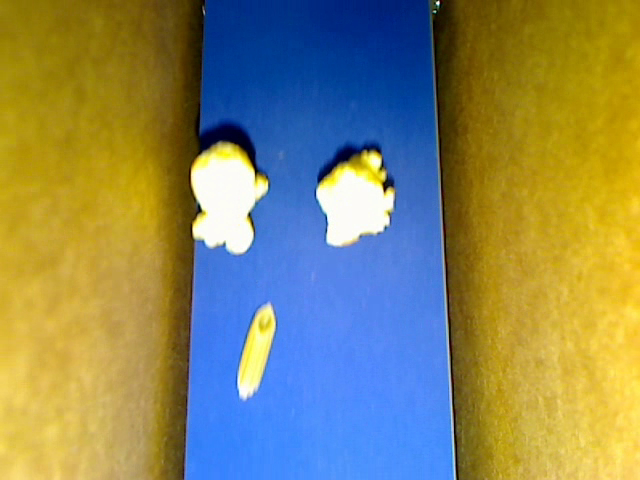penne: (236, 301, 277, 402)
